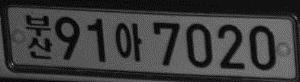0: (186, 22, 213, 68), (249, 25, 275, 70)
1: (86, 17, 109, 62)
2: (217, 24, 245, 69)
7: (153, 21, 180, 66)
9: (54, 15, 81, 60)
부산_V: (25, 13, 52, 59)
아: (114, 22, 142, 61)
